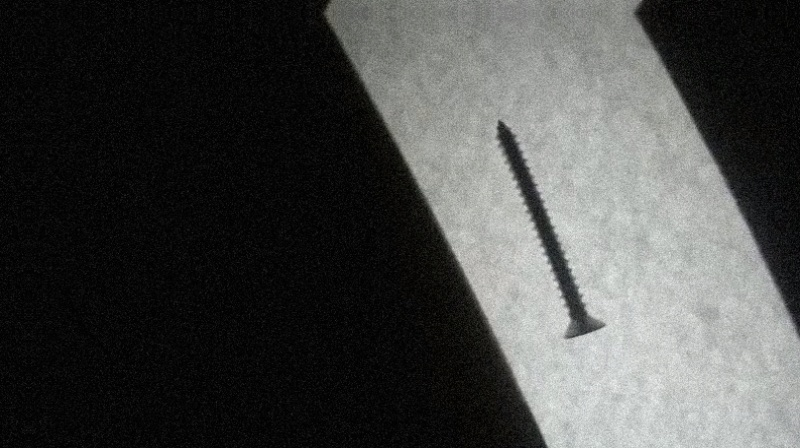S002: (492, 118, 610, 345)
